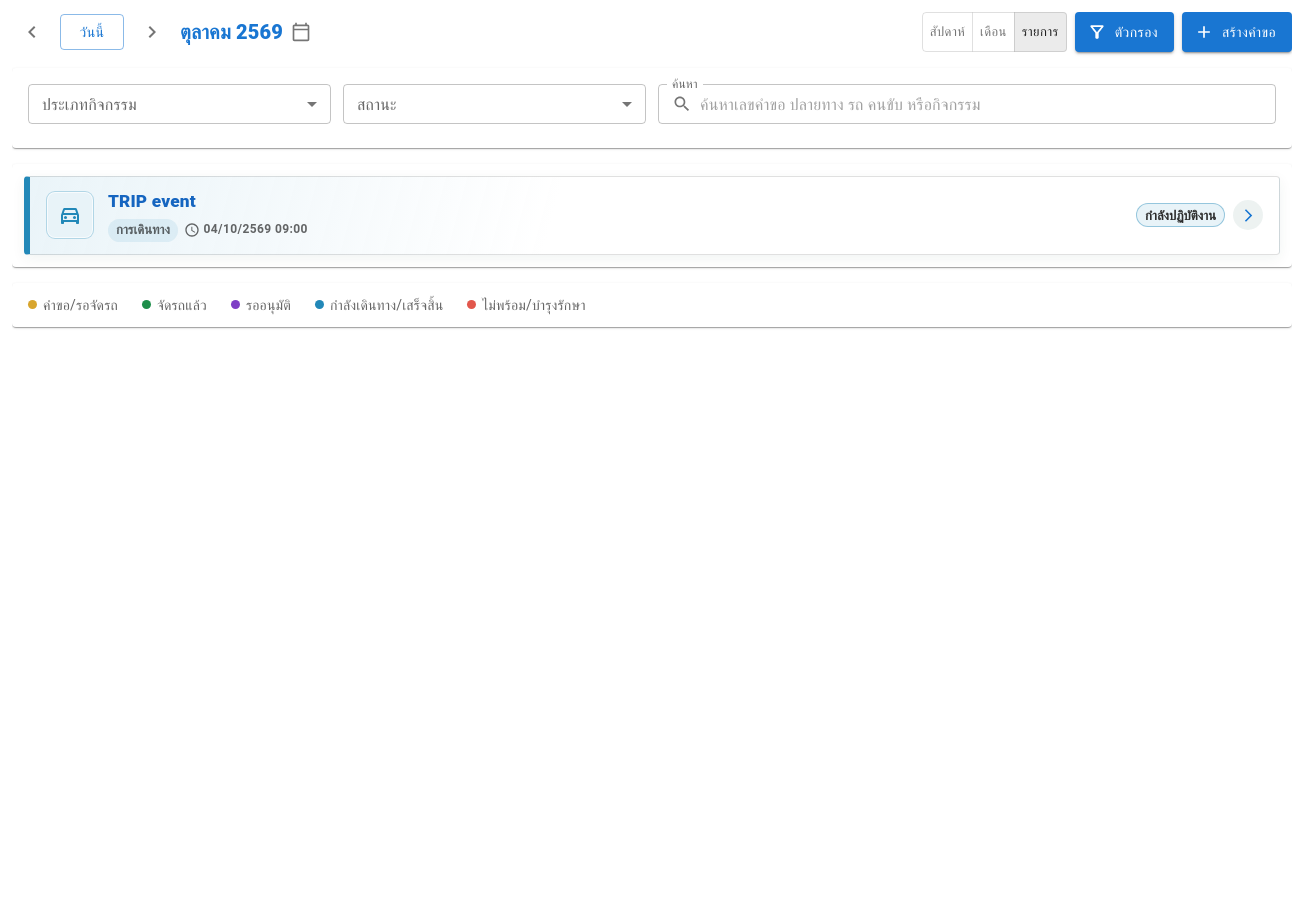
Test: FleetCalendarPage › shows an unfinished trip on its scheduled day in agenda view
Click the button "TRIP event การเดินทาง 04/10/2569 09:00 กำลังปฏิบัติงาน" at (70,215), box [24,176,1280,254]
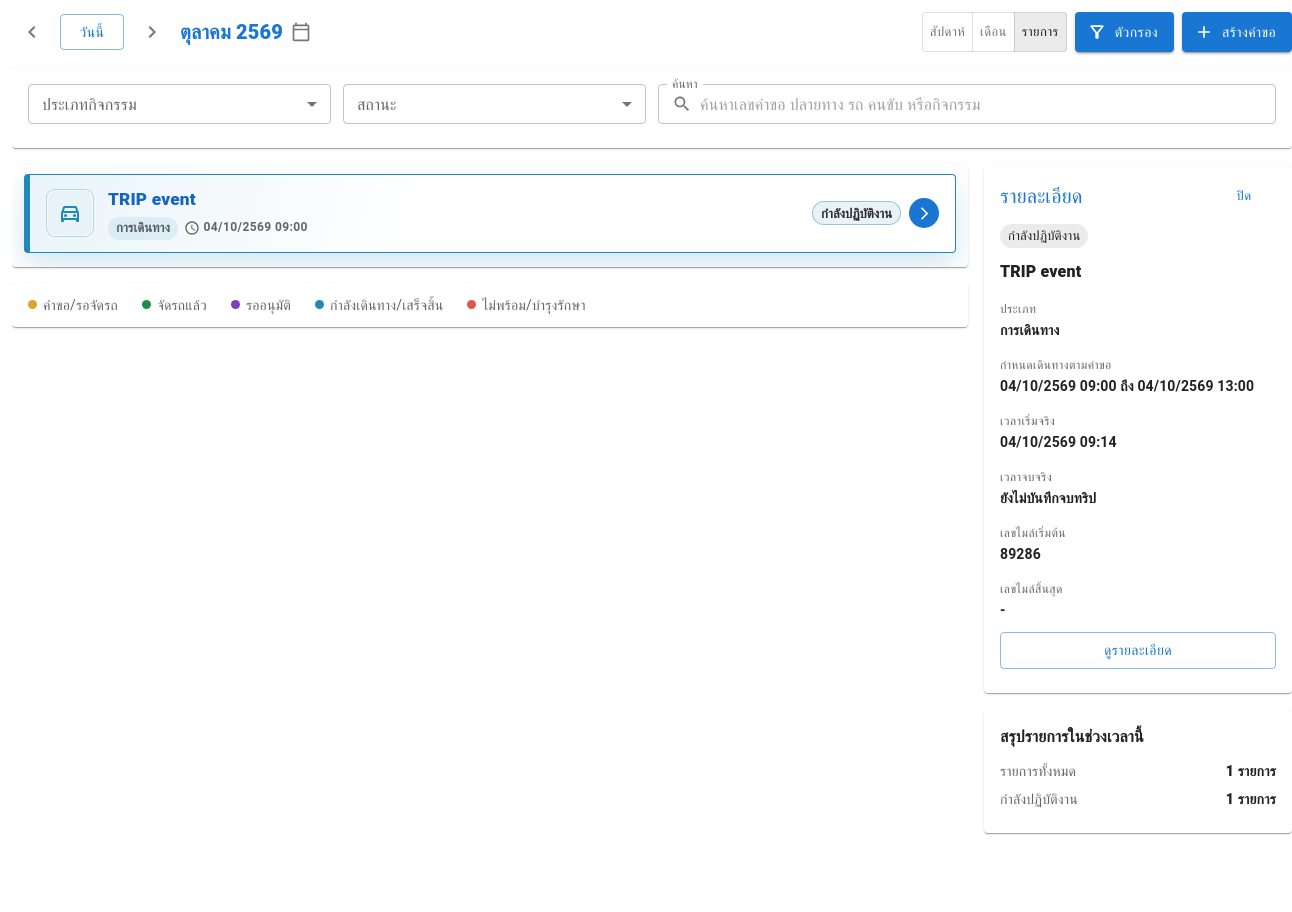
Check: the text "กำหนดเดินทางตามคำขอ" is shown, box [1000,358,1112,372]
Check: the text "เวลาเริ่มจริง" is shown, box [1000,414,1055,428]
Check: the text "ยังไม่บันทึกจบทริป" is shown, box [1000,490,1096,506]
